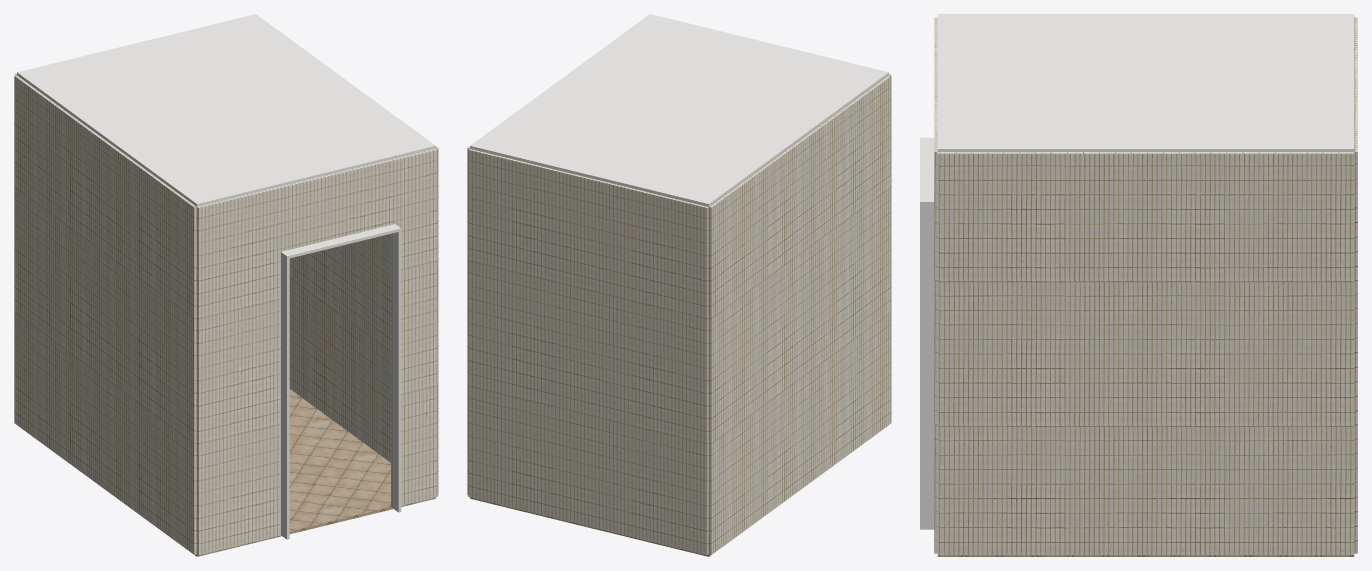
The model's file is BathroomShell.glb.
3 views of the same model, side by side, from view 1: azimuth 30°, elevation 25°; view 2: azimuth 150°, elevation 25°; view 3: azimuth 270°, elevation 25° (orthographic). The views are drawn at different scales.
Parts seen in each view (by area): view 1: BathroomShell; view 2: BathroomShell; view 3: BathroomShell.
Boxes of the visible parts, bbox=[...] form: BathroomShell: bbox=[14, 14, 438, 556]; BathroomShell: bbox=[467, 14, 891, 556]; BathroomShell: bbox=[920, 14, 1357, 556].
Size of the model in its own units: 1.84 by 2.54 by 2.47.
4 materials, 2 textured.
